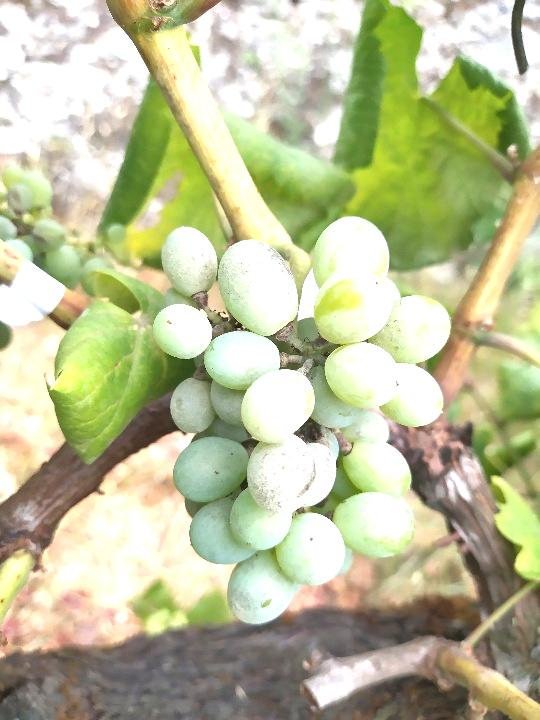grape: (149, 211, 454, 627)
